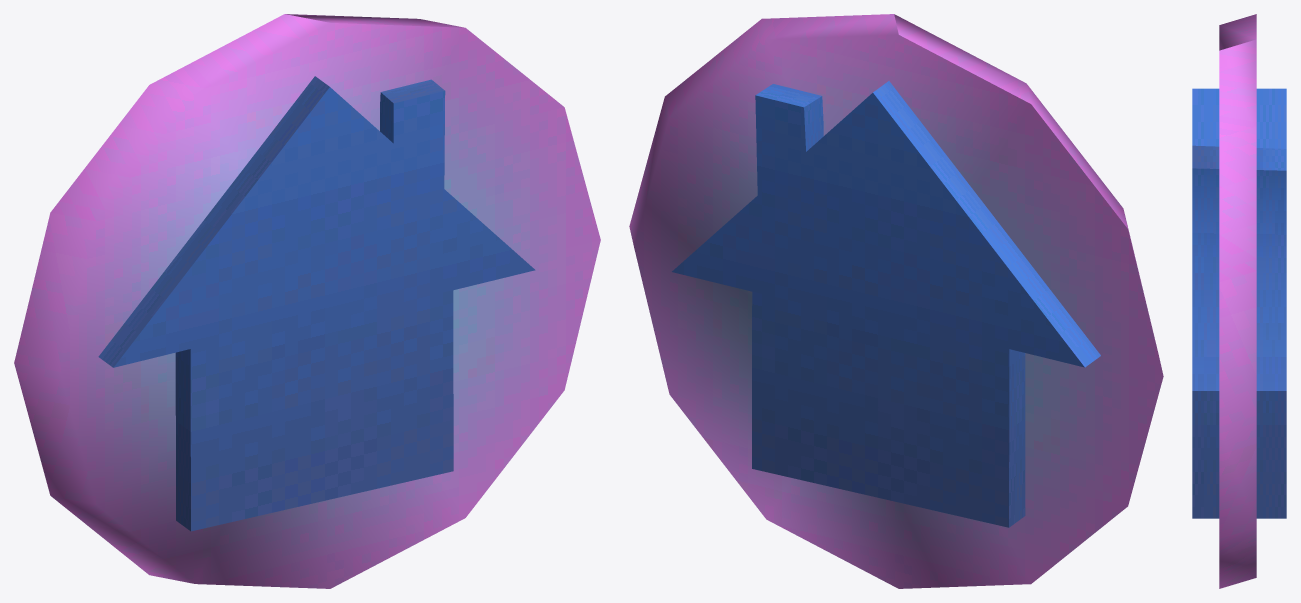
File: PropertyLocked.fbx
3 renders of one model, left to right at view 1: azimuth 30°, elevation 25°; view 2: azimuth 150°, elevation 25°; view 3: azimuth 270°, elevation 25°, orthographic. The views are drawn at different scales.
Visible parts, largest first — view 1: property_locked; view 2: property_locked; view 3: property_locked.
Boxes of the visible parts, <box> form: property_locked: <box>14,14,600,588</box>; property_locked: <box>629,14,1163,588</box>; property_locked: <box>1192,14,1286,588</box>.
Bounding box in the file's own units: 62.8 × 60 × 10.
Materials: 2 (2 with a texture image).
